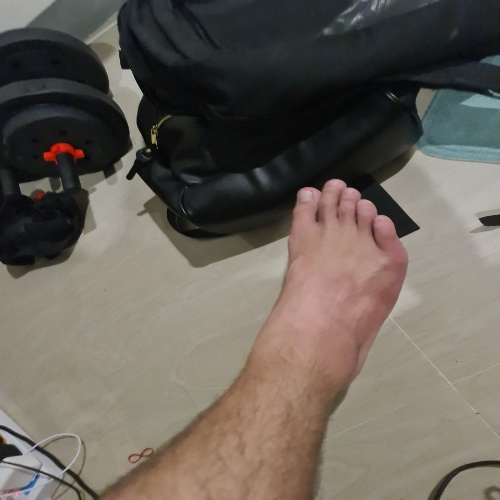3: (290, 188, 322, 223)
Top_Foot: (240, 177, 409, 426)
